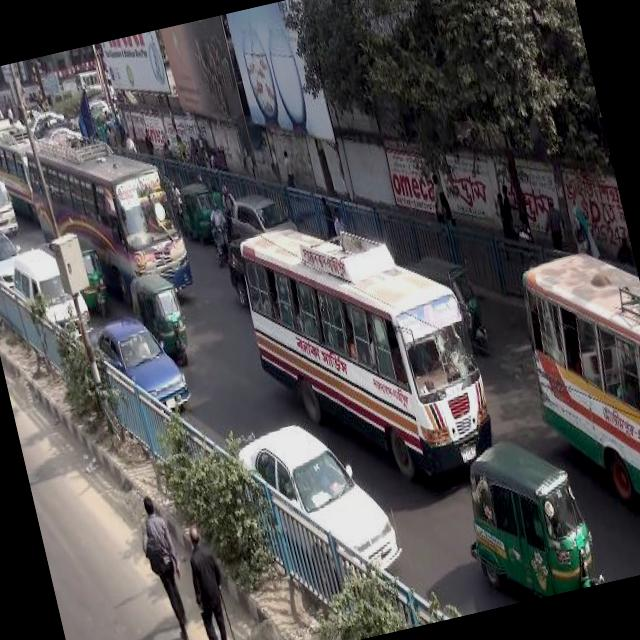bus: (229, 188, 503, 509), (508, 233, 640, 572), (20, 115, 196, 322), (0, 119, 41, 223), (73, 62, 106, 88)
car: (230, 407, 408, 604), (86, 302, 195, 430), (222, 178, 300, 257), (218, 237, 252, 310), (0, 221, 25, 287), (24, 101, 64, 142), (66, 91, 109, 127), (40, 116, 74, 144)
motorcycle: (448, 421, 609, 608), (412, 238, 494, 364), (122, 263, 192, 370), (125, 264, 197, 366), (66, 232, 110, 312), (176, 173, 221, 248), (205, 220, 229, 264)
truck: (8, 236, 96, 351), (0, 172, 23, 240)
